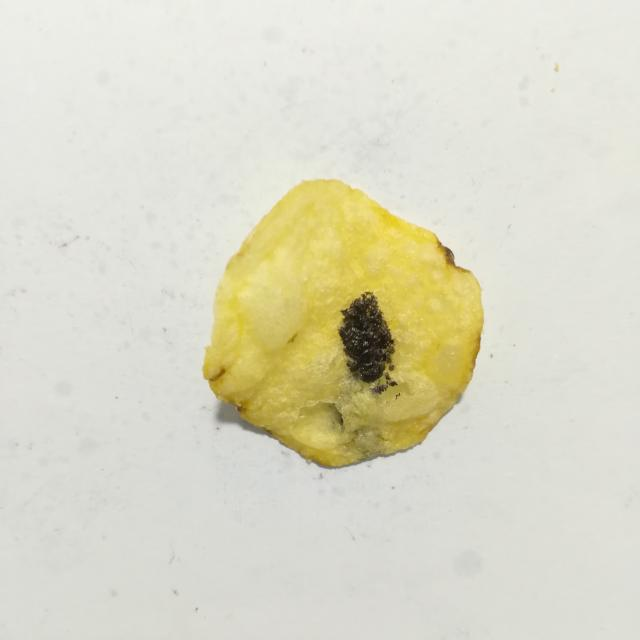chip: (203, 180, 483, 467)
damaged: (338, 291, 397, 394)
semi-damaged: (327, 369, 396, 459), (395, 393, 400, 399)
